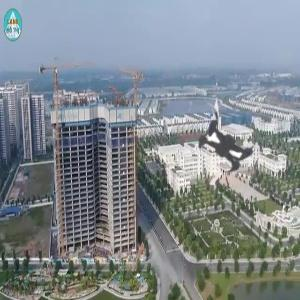drone: (161, 83, 295, 217)
